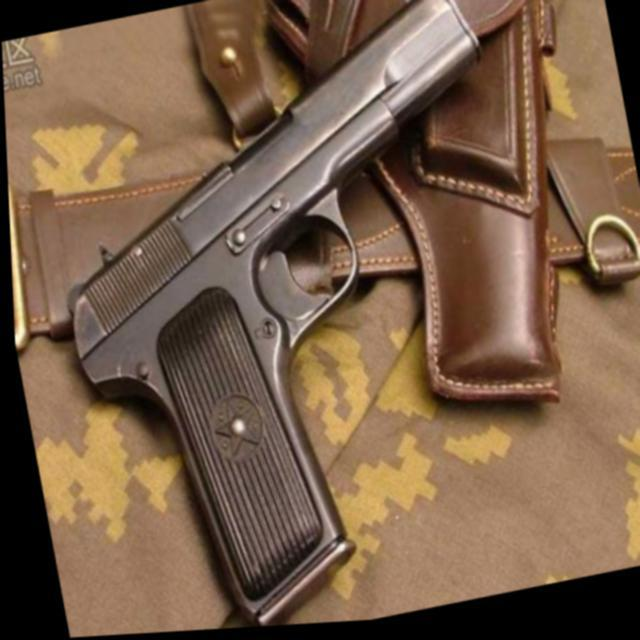weapon: (13, 0, 576, 639)
